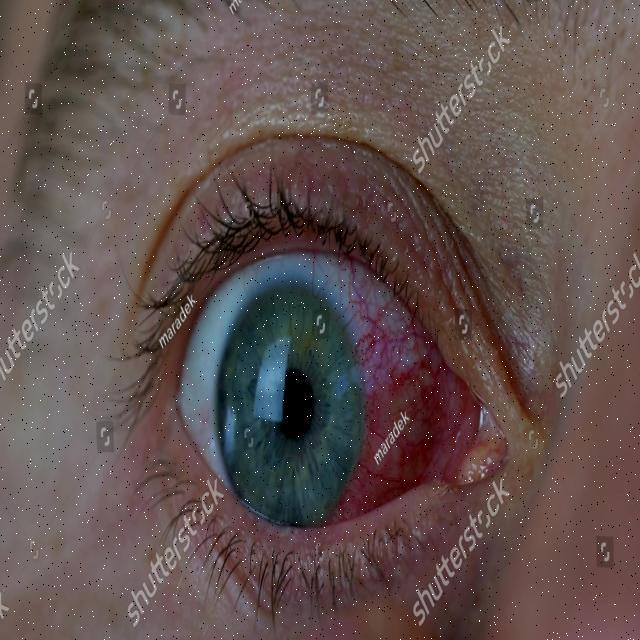Conjunctivitis: (264, 274, 528, 530)
